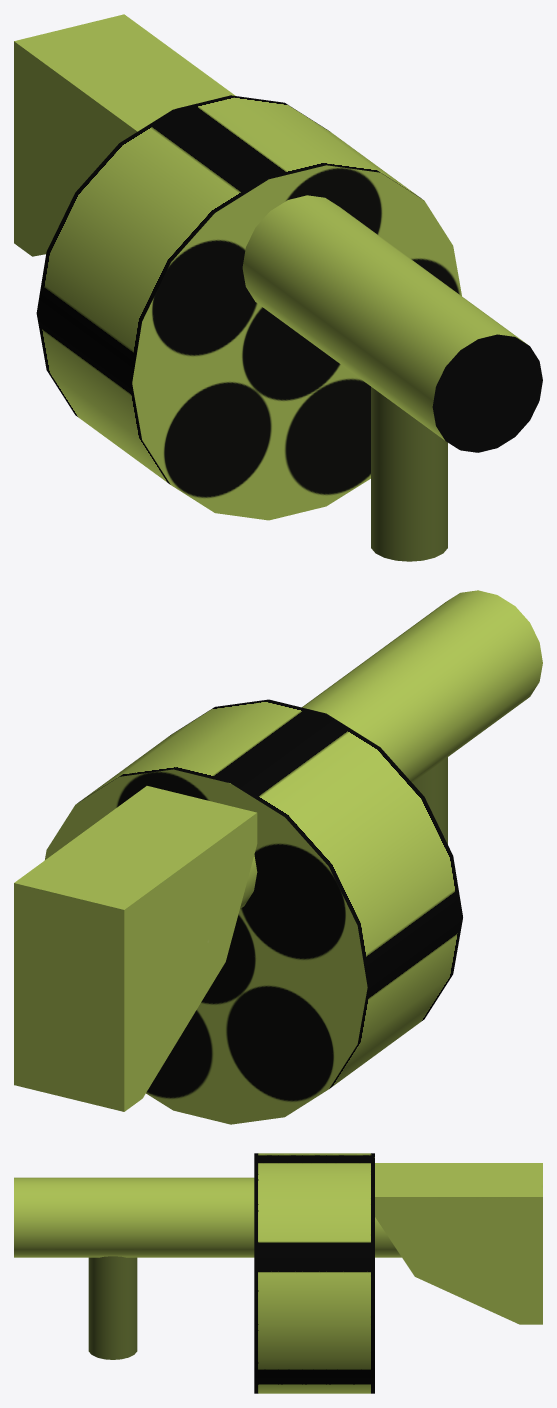
File: GLauncher.FBX
3 views of the same model, one above another, from view 1: azimuth 30°, elevation 25°; view 2: azimuth 150°, elevation 25°; view 3: azimuth 270°, elevation 25° (orthographic). The views are drawn at different scales.
Visible parts, largest first — view 1: Cylinder002; view 2: Cylinder002; view 3: Cylinder002.
Boxes of the visible parts, x1=… form: Cylinder002: x1=14, y1=14, x2=542, y2=561; Cylinder002: x1=14, y1=590, x2=542, y2=1124; Cylinder002: x1=14, y1=1153, x2=542, y2=1393.
Size of the model in its own units: 60 by 59.09 by 131.
1 material, 1 textured.
